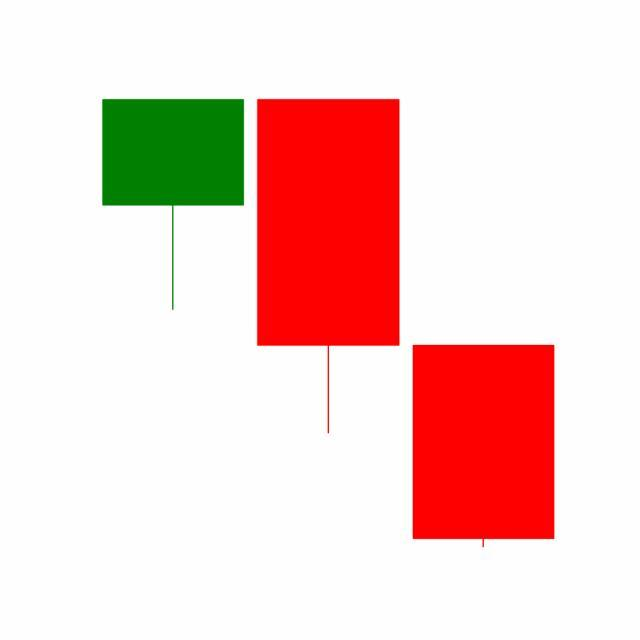Marubozu: (406, 343, 562, 551)
